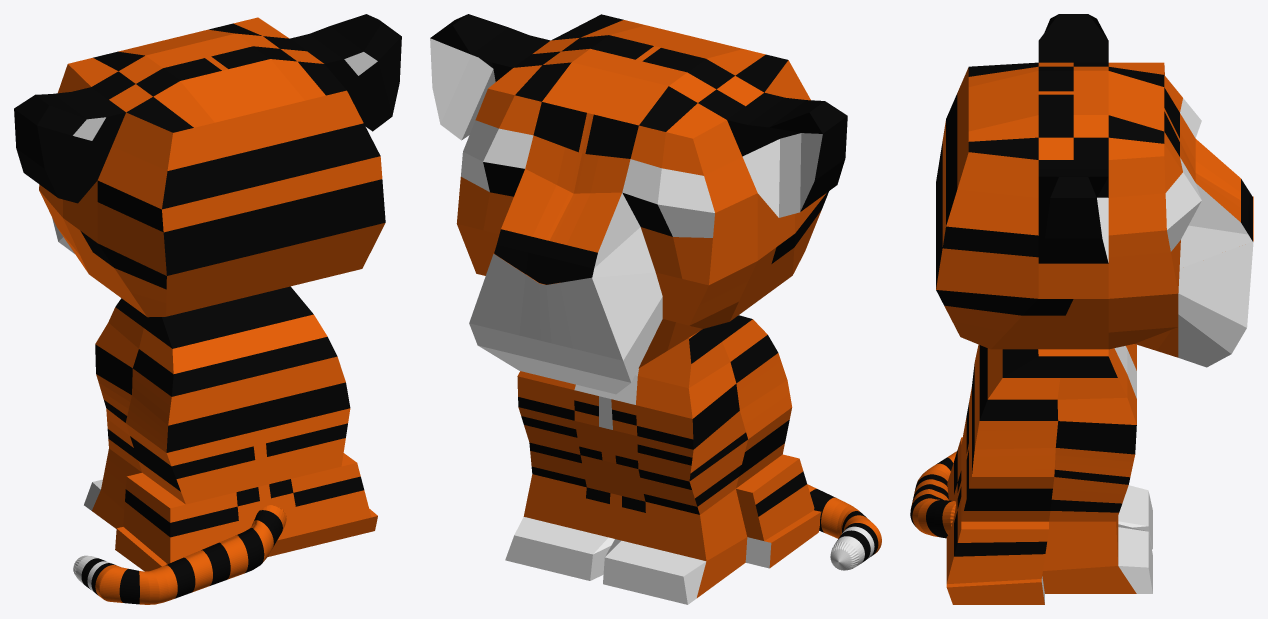
The model's file is BobbleheadTiger.fbx.
The picture shows the model from 3 angles, left to right: view 1: azimuth 30°, elevation 25°; view 2: azimuth 150°, elevation 25°; view 3: azimuth 270°, elevation 25°; orthographic projection. The views are drawn at different scales.
Parts seen in each view (by area): view 1: Cube.001, Cube, Cylinder; view 2: Cube.001, Cube, Cylinder; view 3: Cube.001, Cube, Cylinder.
Boxes of the visible parts, left/top/right/bottom form: Cube.001: left=14, top=14, right=401, bottom=317; Cube: left=84, top=286, right=377, bottom=571; Cylinder: left=73, top=505, right=286, bottom=604; Cube.001: left=430, top=14, right=847, bottom=394; Cube: left=505, top=315, right=821, bottom=604; Cylinder: left=807, top=484, right=881, bottom=570; Cube.001: left=936, top=14, right=1253, bottom=367; Cube: left=946, top=344, right=1152, bottom=604; Cylinder: left=910, top=451, right=956, bottom=538.
Size of the model in its own units: 405 by 493 by 327.
